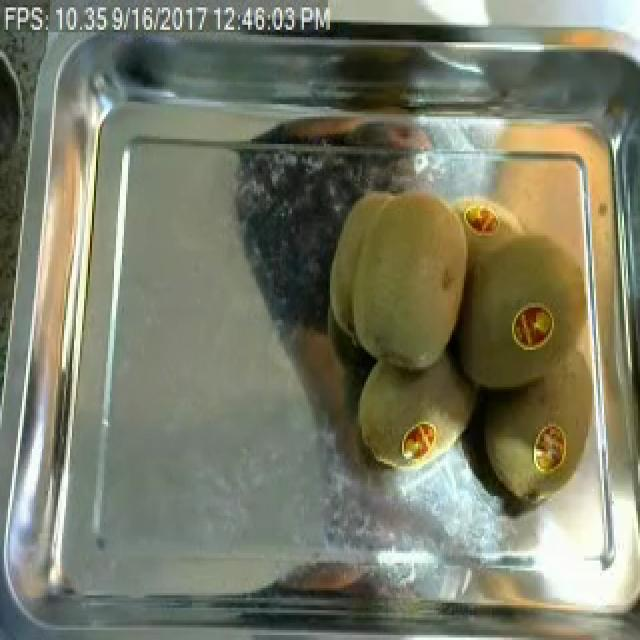Fruit: (316, 176, 484, 380), (348, 345, 488, 481), (504, 298, 562, 357)
